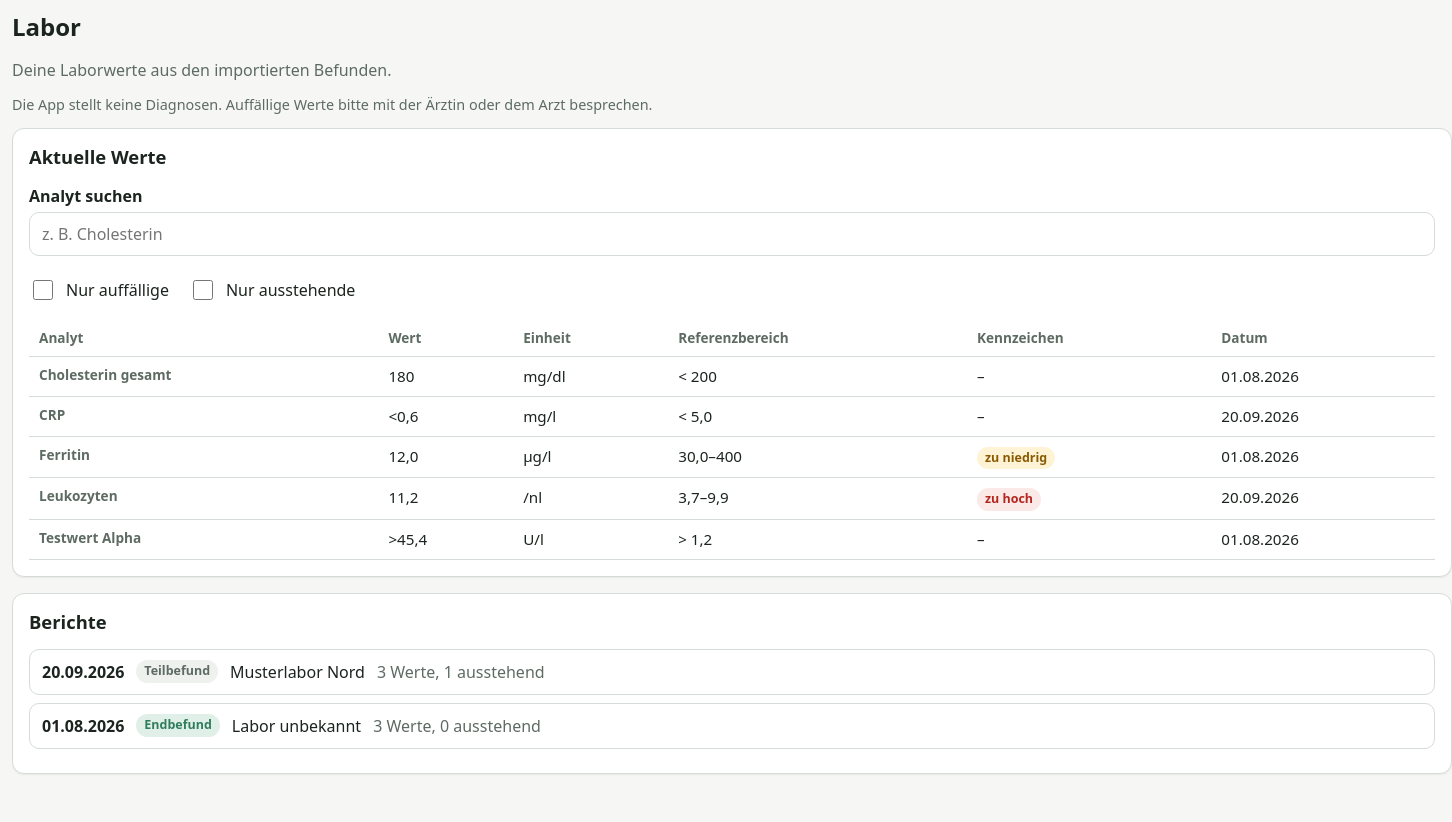
Test: Labor › zeigt mit „Nur ausstehende“ die offenen Werte aus den Berichten
This screenshot has width=1452, height=822.
Expected: the heading "Aktuelle Werte" is shown, [29,145,166,168]
Click the checkbox labelled "Nur ausstehende". click: (203, 290)
box: [193,280,213,300]
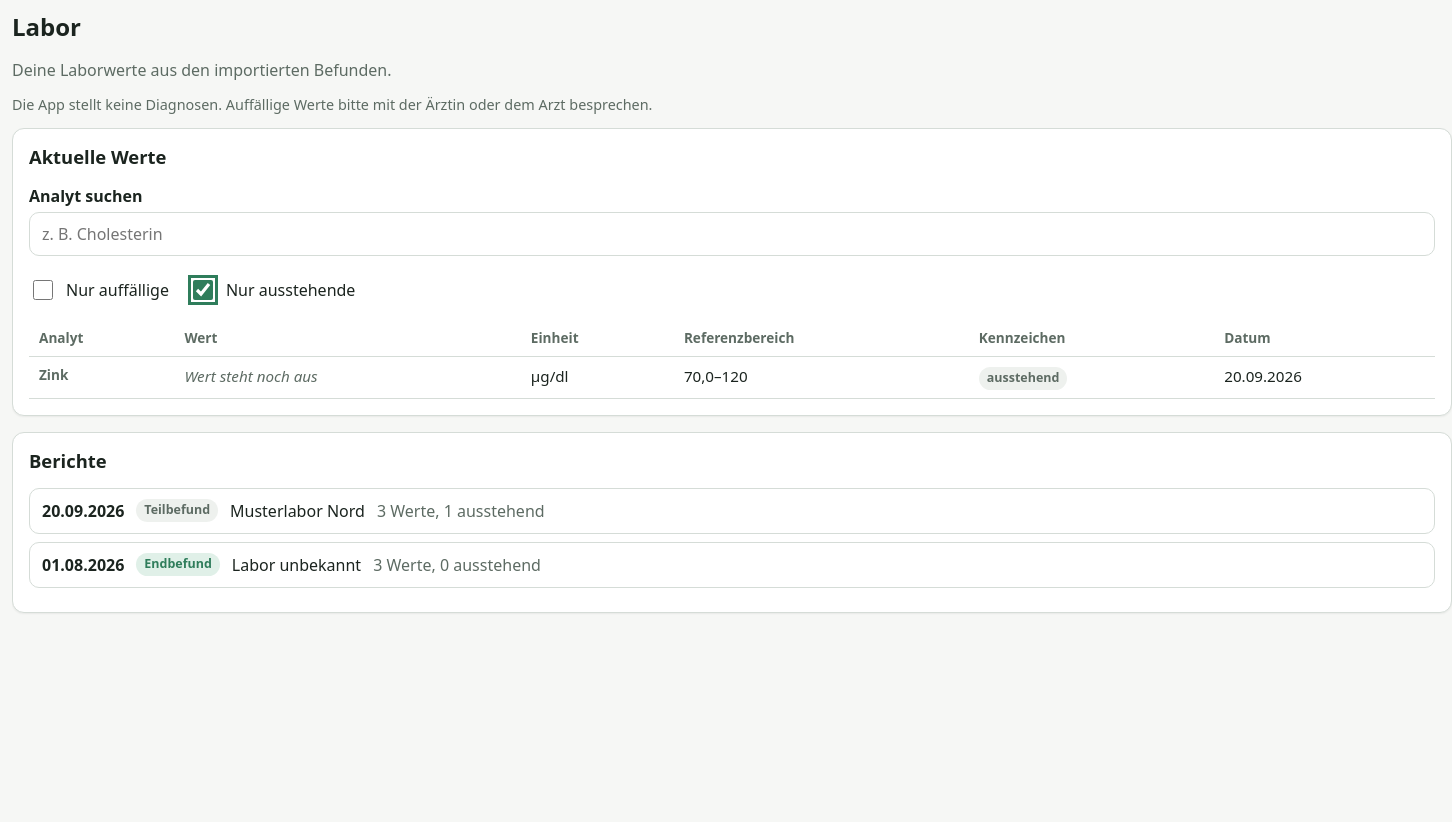
Now the row "Zink" shows "Wert steht noch aus", box [184,366,318,386]
Now the row "Zink" shows "20.09.2026", box [1224,366,1302,386]
Now the column heading "Leukozyten" is gone
Beide Filter: wie im Server gilt „mindestens eines“.
Click the checkbox labelled "Nur auffällige". click: (43, 290)
box: [33,280,53,300]
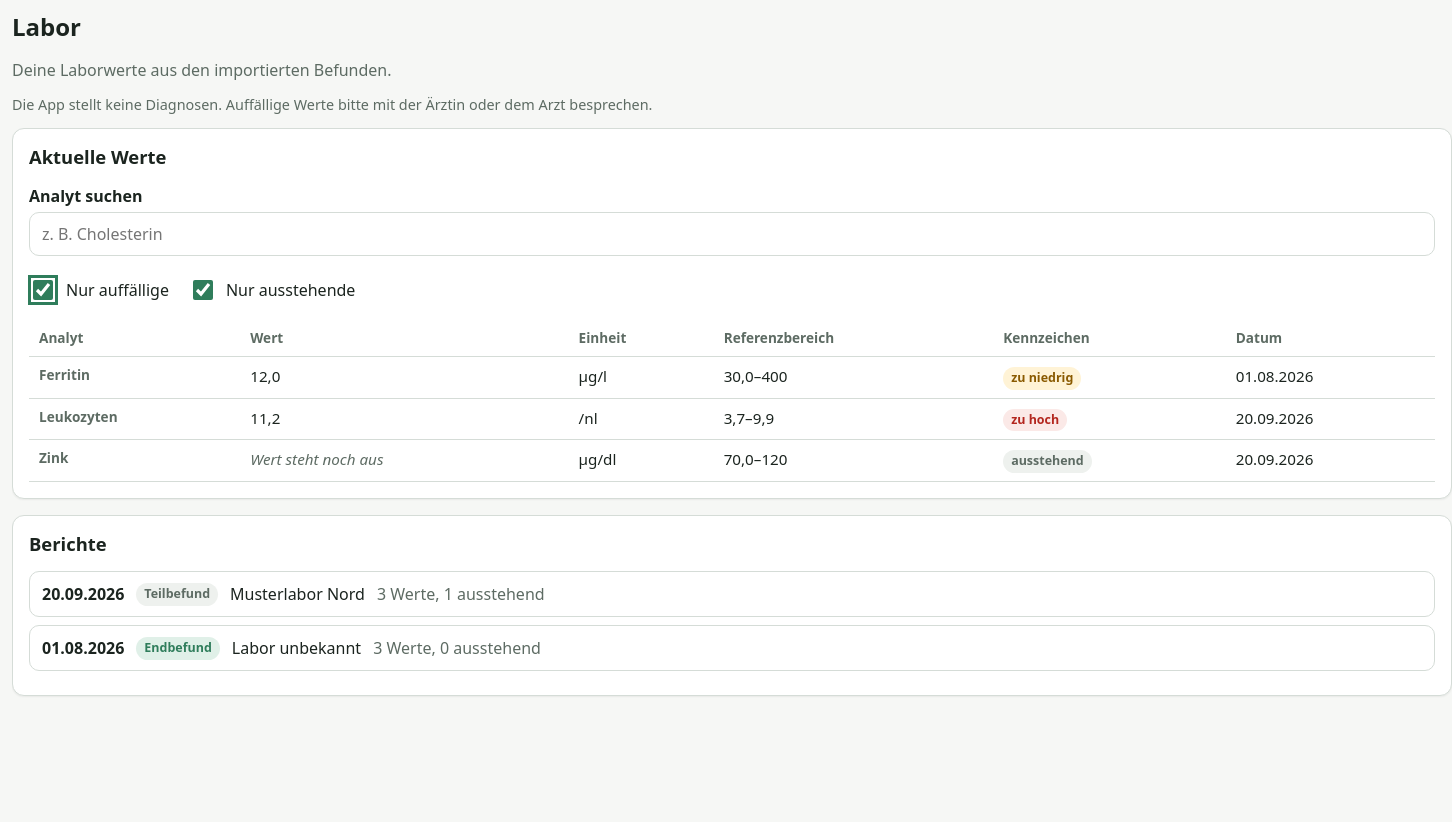
Expected: the column heading "CRP" is not shown
Now the row "Zink" is shown, box [29,440,1435,482]
Now the row "Ferritin 12,0 µg/l 30,0–400 zu niedrig 01.08.2026" is shown, box [29,356,1435,398]
